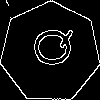Q: (25, 27, 73, 67)
